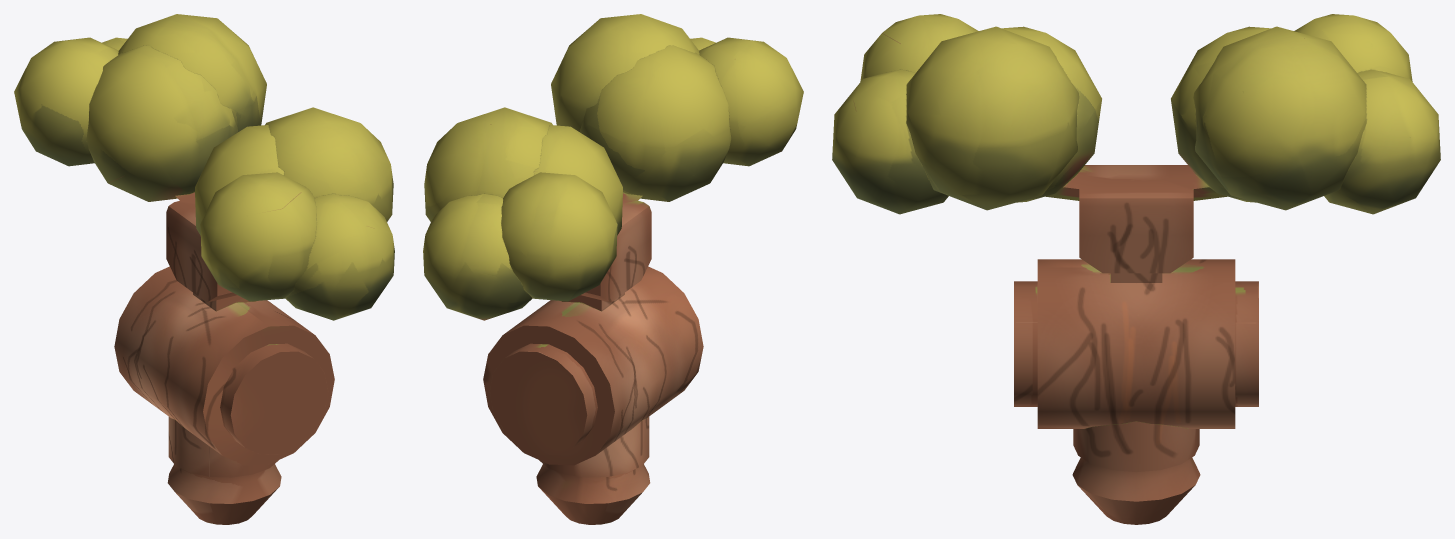
Rendered from MechTree.glb.
The picture shows the model from 3 angles, left to right: view 1: azimuth 30°, elevation 25°; view 2: azimuth 150°, elevation 25°; view 3: azimuth 270°, elevation 25°; orthographic projection. The views are drawn at different scales.
Parts seen in each view (by area): view 1: Cube; view 2: Cube; view 3: Cube.
Boxes of the visible parts, <box> form: Cube: <box>14,14,394,524</box>; Cube: <box>423,14,803,524</box>; Cube: <box>832,14,1440,524</box>.
Bounding box in the file's own units: 14.79 × 30.14 × 34.09.
Materials: 1 (1 with a texture image).
